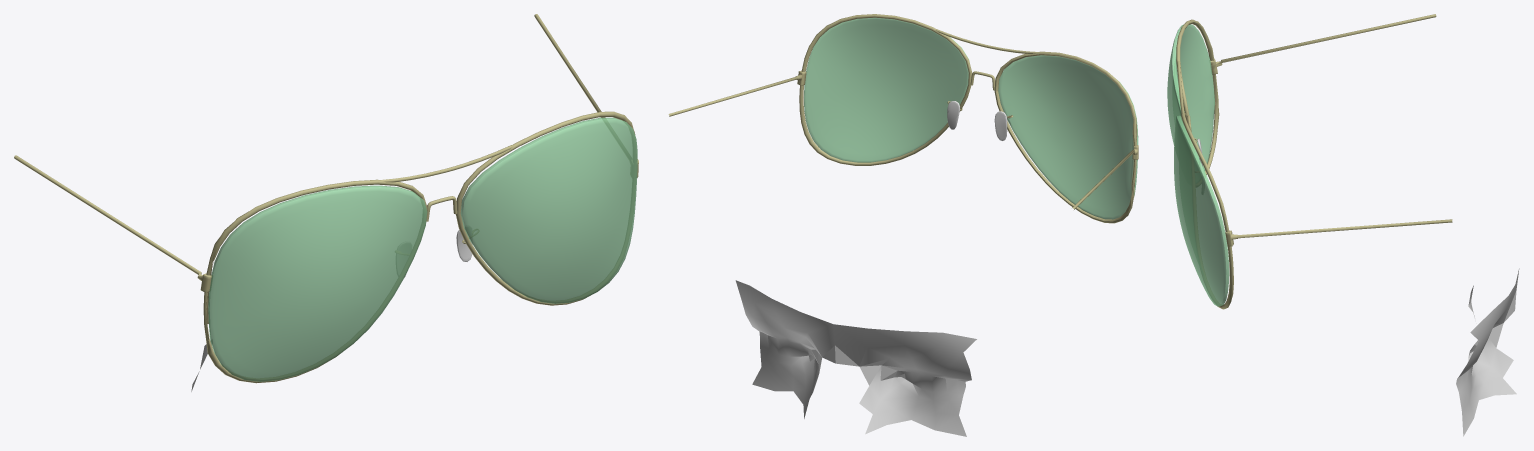
File: glass7.gltf
3 views of the same model, side by side, from view 1: azimuth 30°, elevation 25°; view 2: azimuth 150°, elevation 25°; view 3: azimuth 270°, elevation 25° (orthographic). The views are drawn at different scales.
Parts seen in each view (by area): view 1: mesh0_1, mesh0; view 2: mesh0_1, facemesh, mesh0, mesh0_2; view 3: mesh0_1, mesh0, facemesh.
Part boxes in pixels (x1=…): mesh0_1: x1=208, y1=117, x2=637, y2=381; mesh0: x1=14, y1=14, x2=638, y2=383; mesh0_1: x1=804, y1=17, x2=1138, y2=219; facemesh: x1=735, y1=280, x2=976, y2=436; mesh0: x1=668, y1=14, x2=1138, y2=223; mesh0_2: x1=947, y1=101, x2=1007, y2=140; mesh0_1: x1=1167, y1=24, x2=1229, y2=306; mesh0: x1=1176, y1=14, x2=1452, y2=309; facemesh: x1=1456, y1=268, x2=1519, y2=436.
Size of the model in its own units: 6.48 by 4.33 by 4.59.
